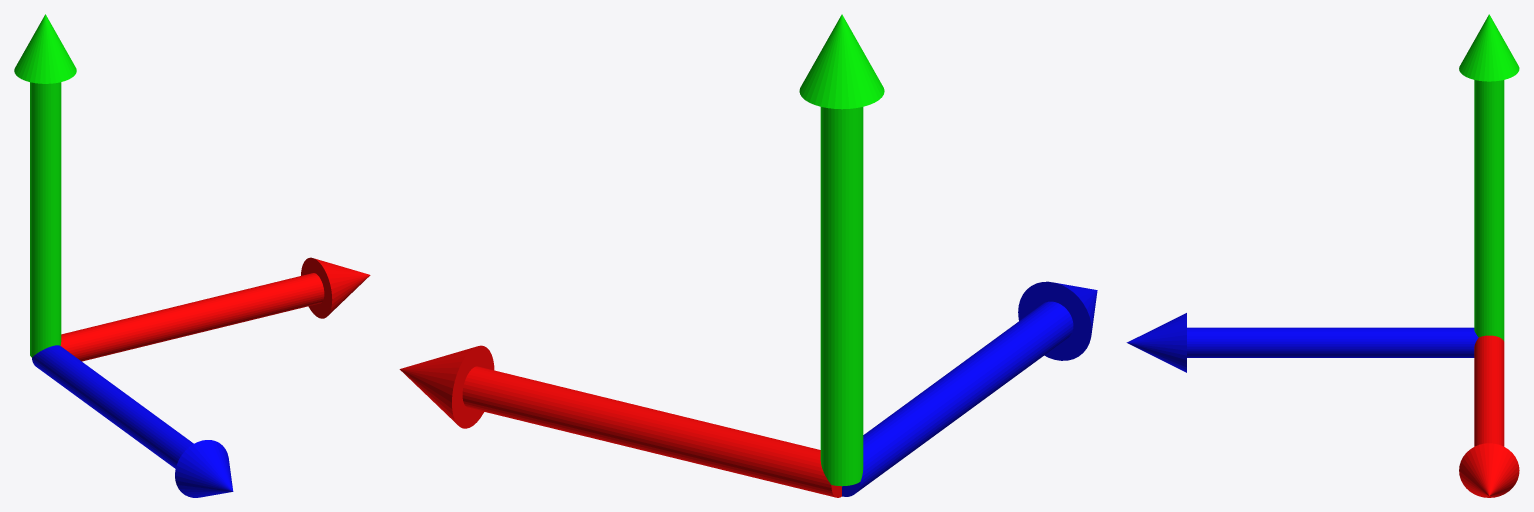
File: translation_gnomon.obj
3 views of the same model, side by side, from view 1: azimuth 30°, elevation 25°; view 2: azimuth 150°, elevation 25°; view 3: azimuth 270°, elevation 25° (orthographic). The views are drawn at different scales.
Visible parts, largest first — view 1: y_axis, x_axis, z_axis; view 2: y_axis, x_axis, z_axis; view 3: z_axis, y_axis, x_axis.
Part boxes in pixels (x1,y1,x2,y2): y_axis: [14, 14, 76, 357]; x_axis: [60, 257, 370, 361]; z_axis: [32, 345, 233, 497]; y_axis: [799, 14, 884, 486]; x_axis: [399, 345, 841, 497]; z_axis: [842, 281, 1097, 496]; z_axis: [1126, 313, 1478, 372]; y_axis: [1459, 14, 1519, 341]; x_axis: [1459, 335, 1519, 497].
Bounding box in the file's own units: 1.3 × 1.3 × 1.3.
